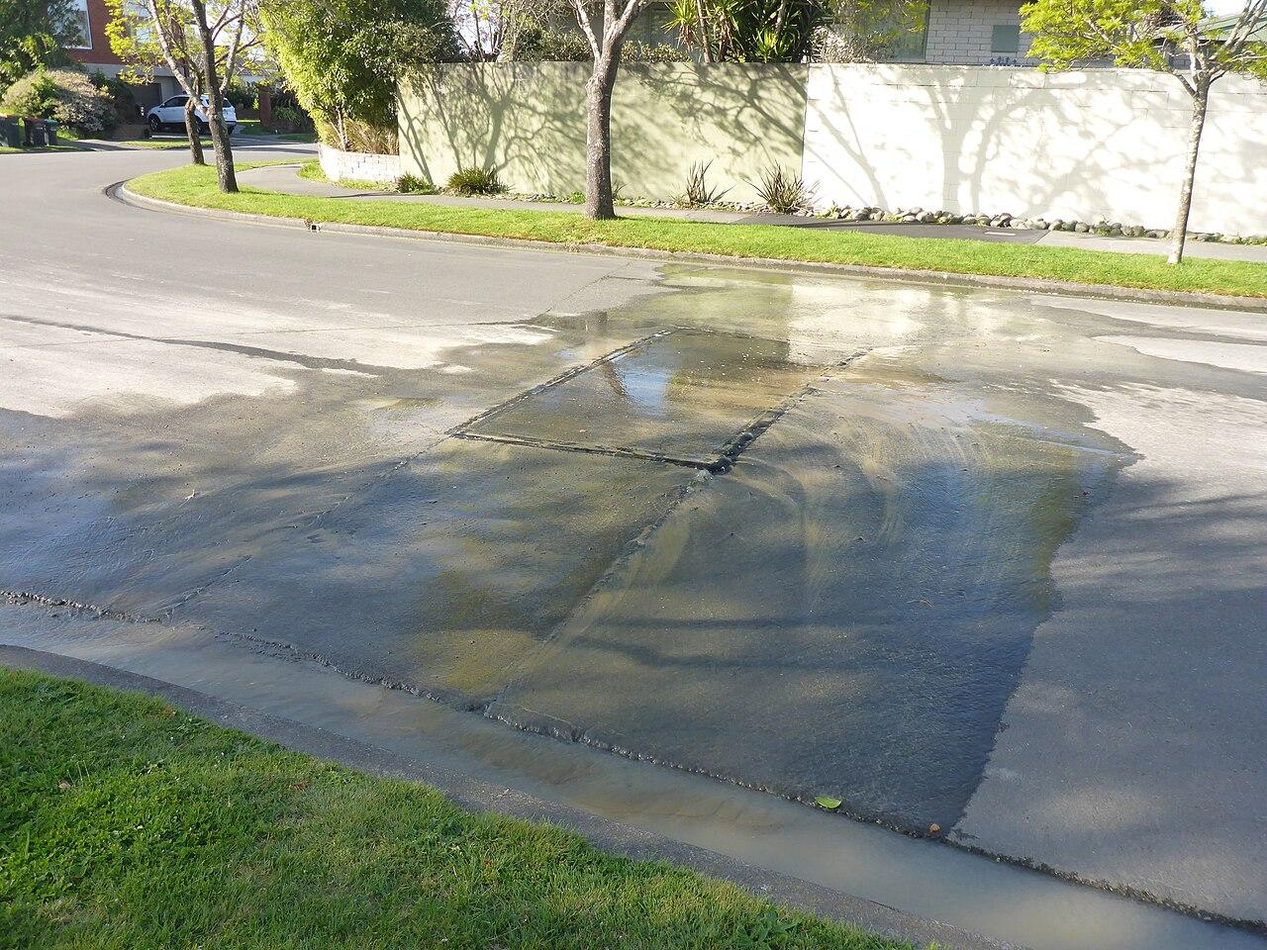water accumulation: (0, 254, 1267, 839)
